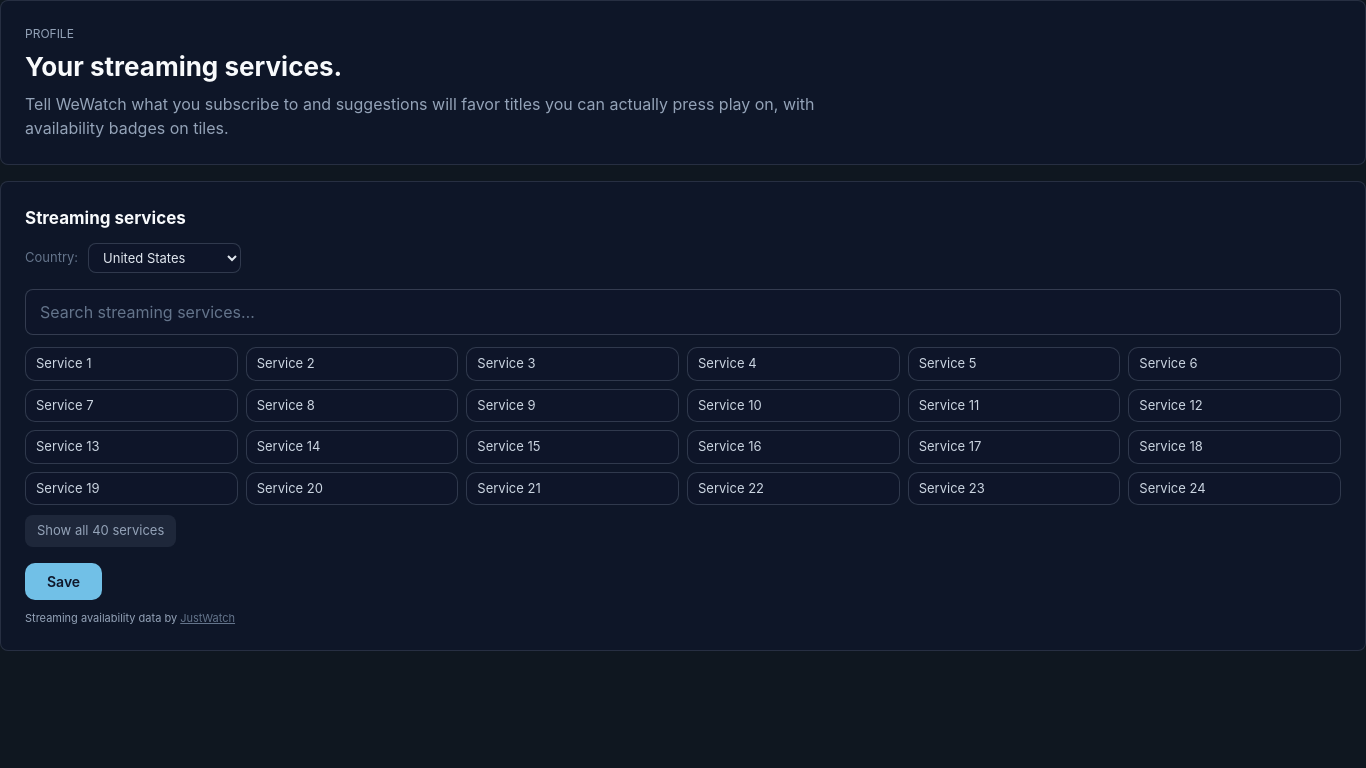
Test: ProfilePage streaming service search (#299) › restores the prior collapsed list when the query is cleared
Check: the element named "Streaming services" is shown, box [25,347,1341,505]
Type "Service 1" into the search field with placeholder "Search streaming services…" at x=683, y=312, box [25,289,1341,335]
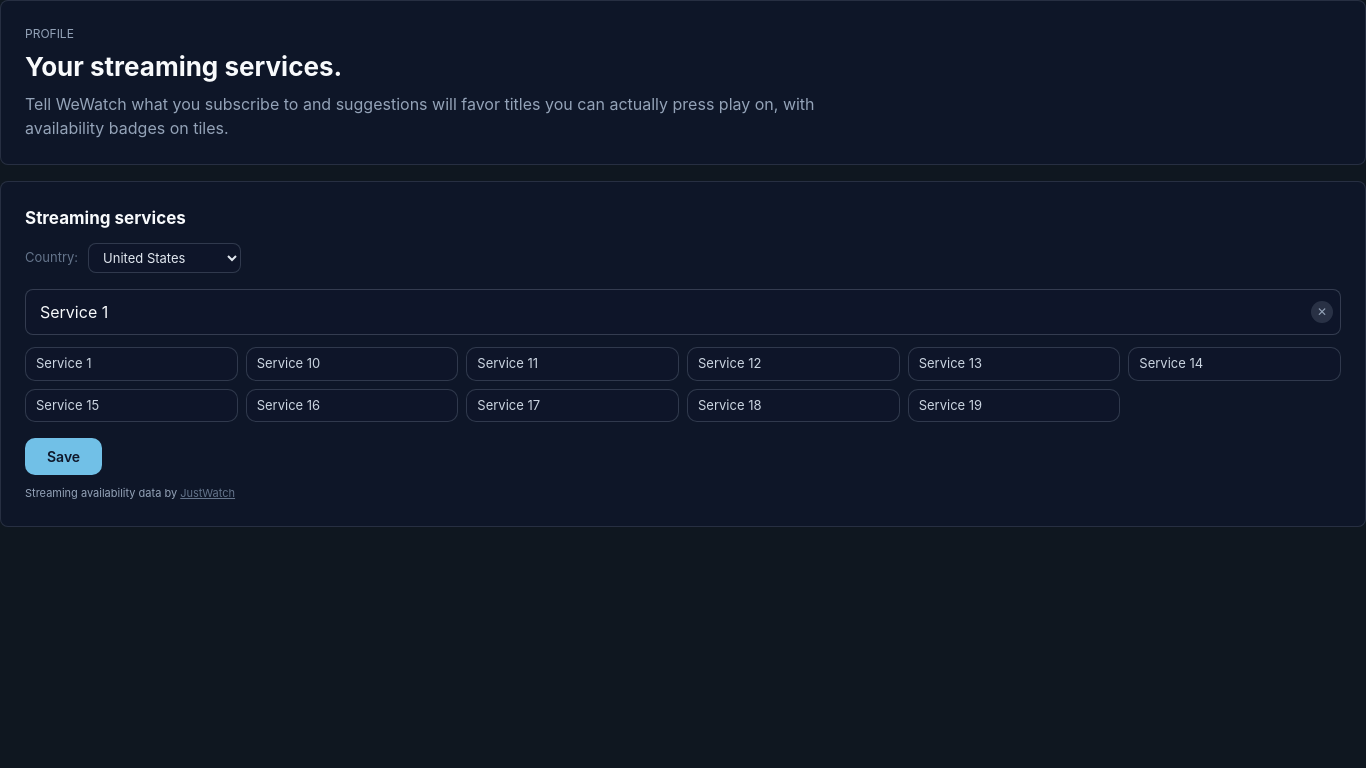
Click the button named "Clear search" at x=1322, y=312, box [1311,301,1333,323]
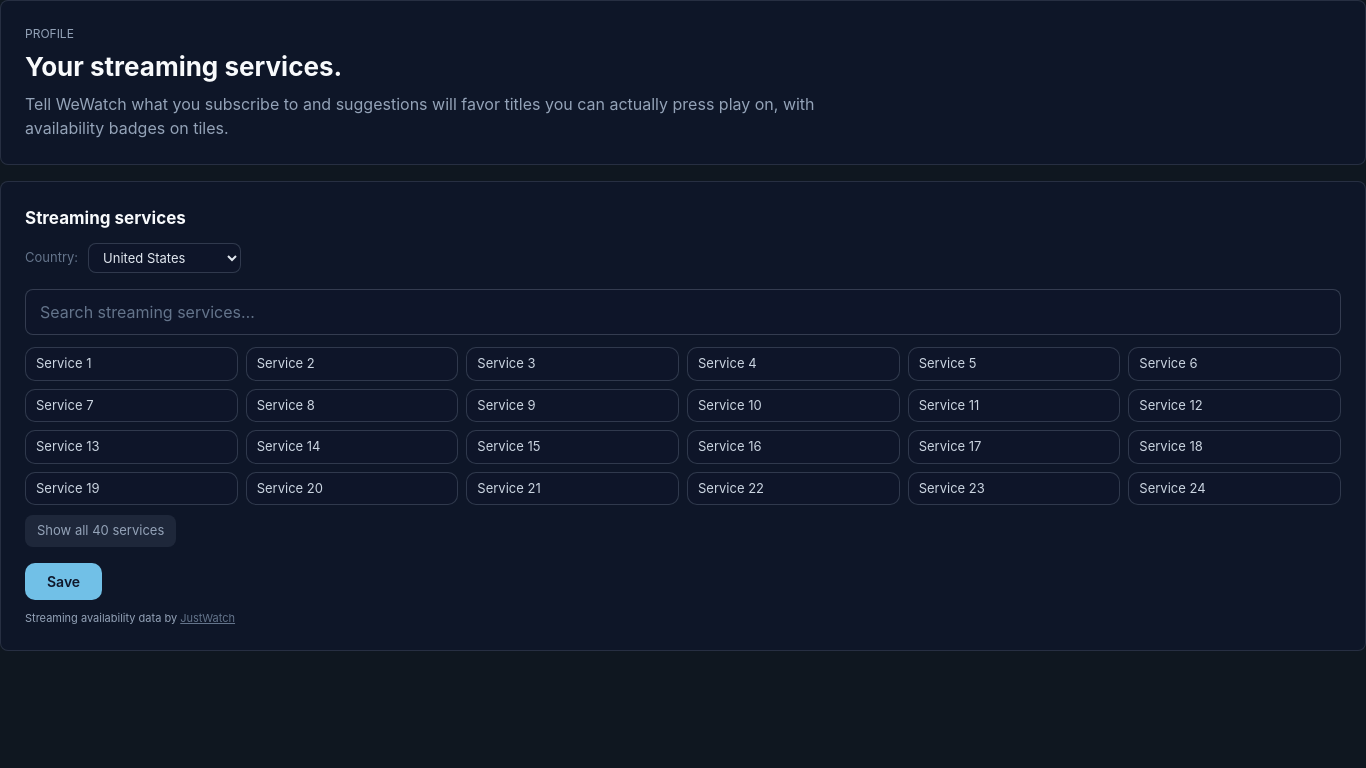
Check: the search field with placeholder "Search streaming services…" is empty, box [25,289,1341,335]
Check: the button "Show all 40 services" is shown, box [25,515,176,547]
